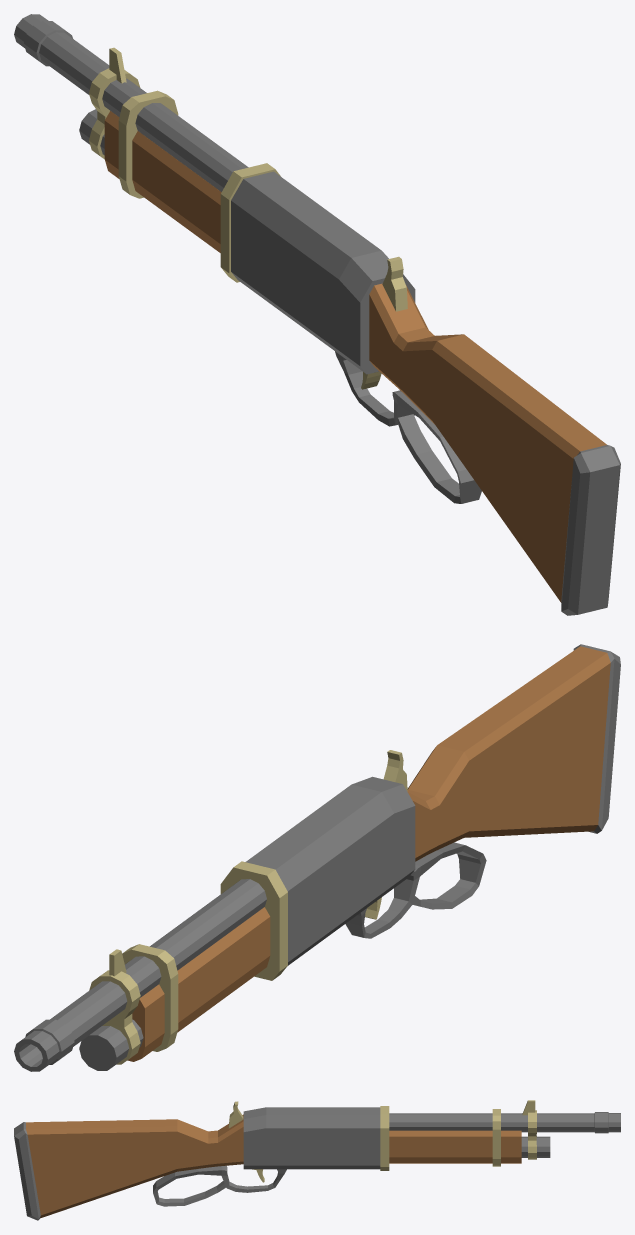
File: Lever-Rifles-Short.fbx
3 views of the same model, one above another, from view 1: azimuth 30°, elevation 25°; view 2: azimuth 150°, elevation 25°; view 3: azimuth 270°, elevation 25° (orthographic). The views are drawn at different scales.
Parts seen in each view (by area): view 1: Carabine.001; view 2: Carabine.001; view 3: Carabine.001.
Part boxes in pixels (x1,y1,x2,y2): Carabine.001: (14, 14, 620, 615); Carabine.001: (14, 644, 620, 1071); Carabine.001: (14, 1100, 620, 1220).
Size of the model in its own units: 65.9 by 235 by 1114.
